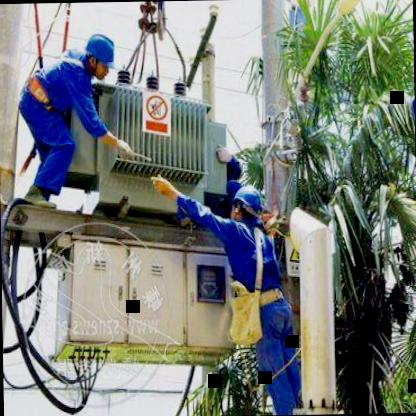helmet: (82, 27, 118, 82), (230, 186, 260, 226)
